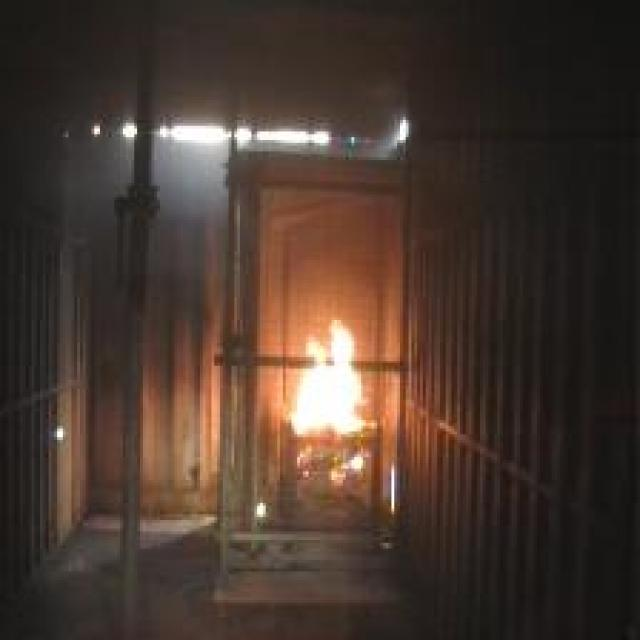Fire: (287, 322, 364, 438)
